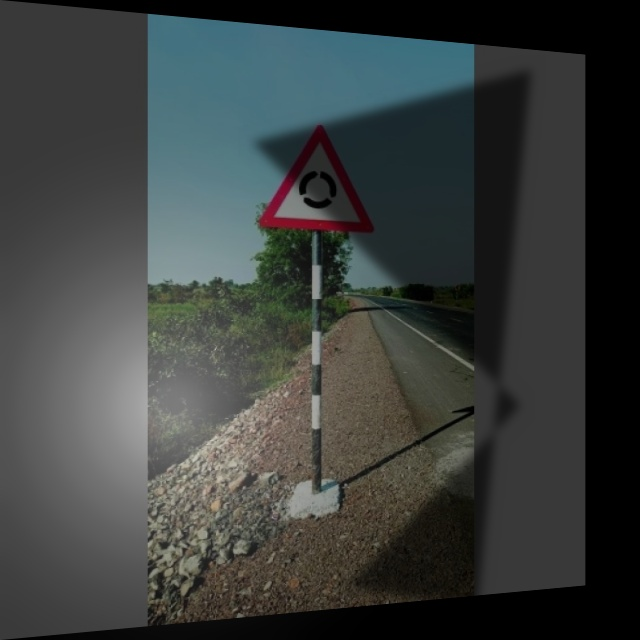Round_About: (261, 119, 376, 233)
